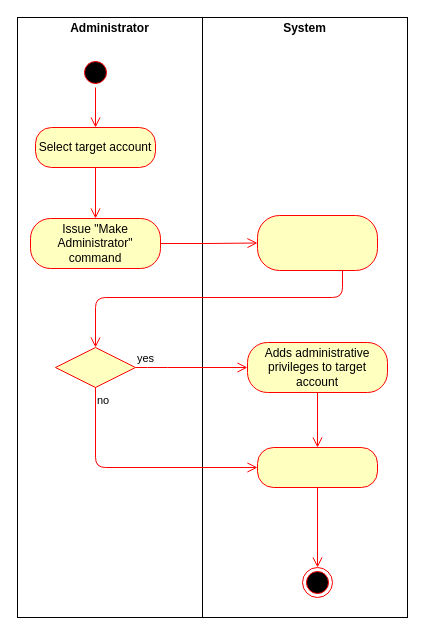
Some shapes in this 425 by 635 pixel diagram are drawn without their labels. The shapes that lost their labels are listed below. From the top down, each one's box as (x1, y1, x2, y2) in pixels, then its label:
(256, 214, 378, 270): Asks administrator if the system should continue
(256, 446, 378, 488): Redirect to dashboard main page
